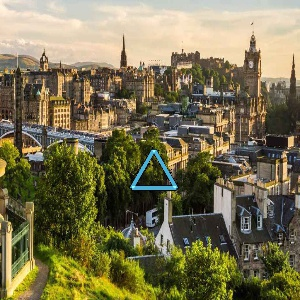triangle: (122, 146, 182, 194)
